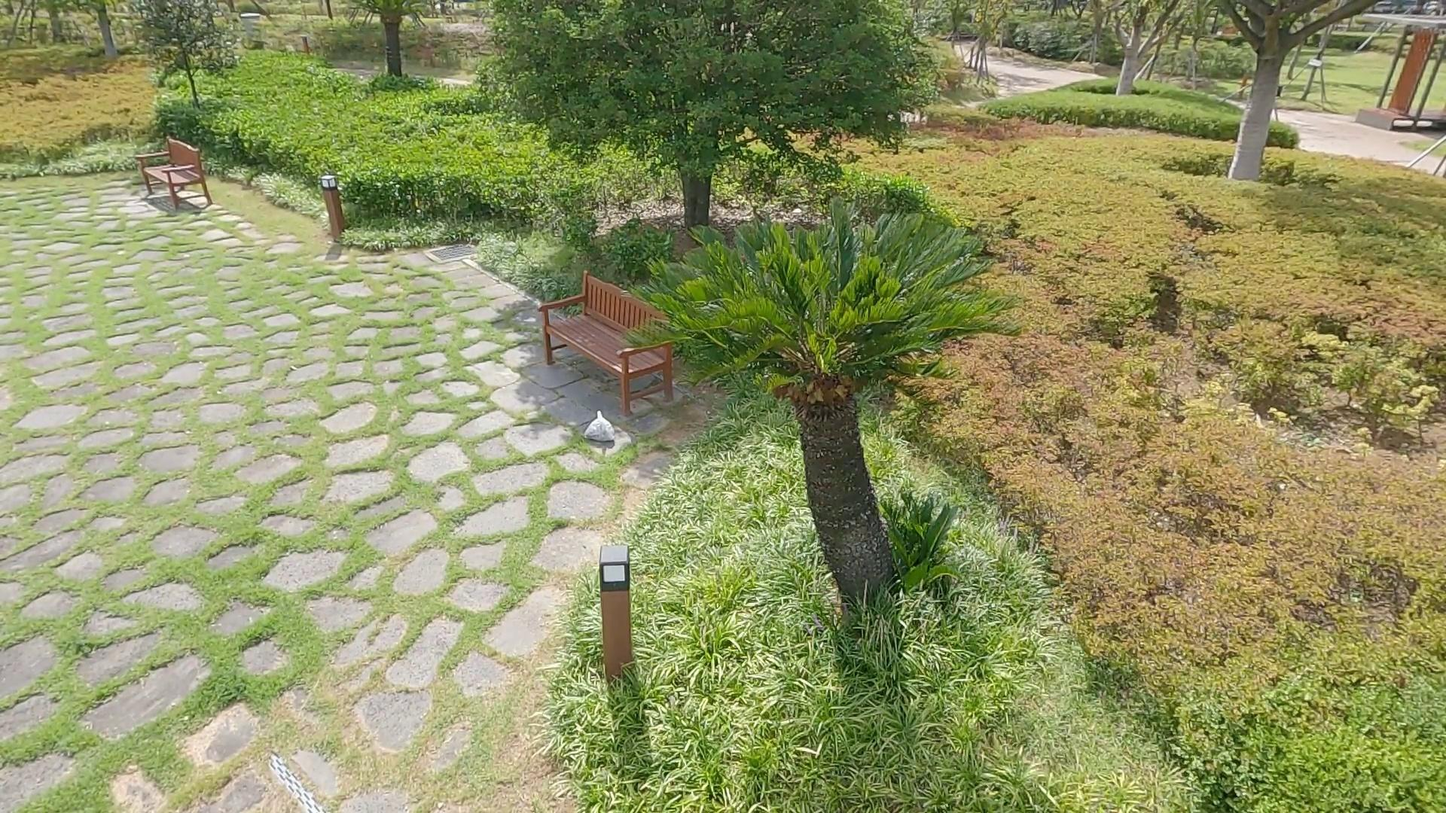trash: (580, 406, 618, 444)
